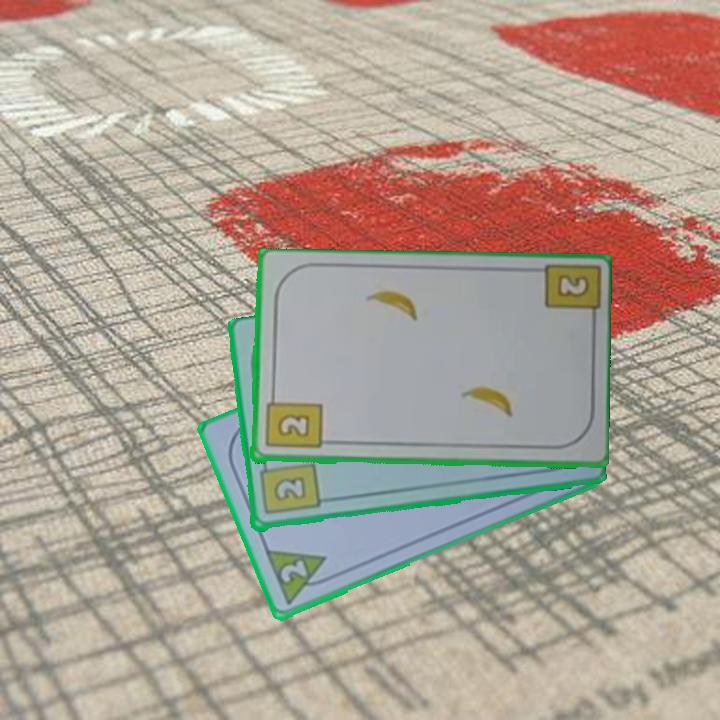2b: (255, 457, 322, 518), (262, 390, 323, 451), (556, 274, 588, 299)
2p: (261, 546, 336, 609)
